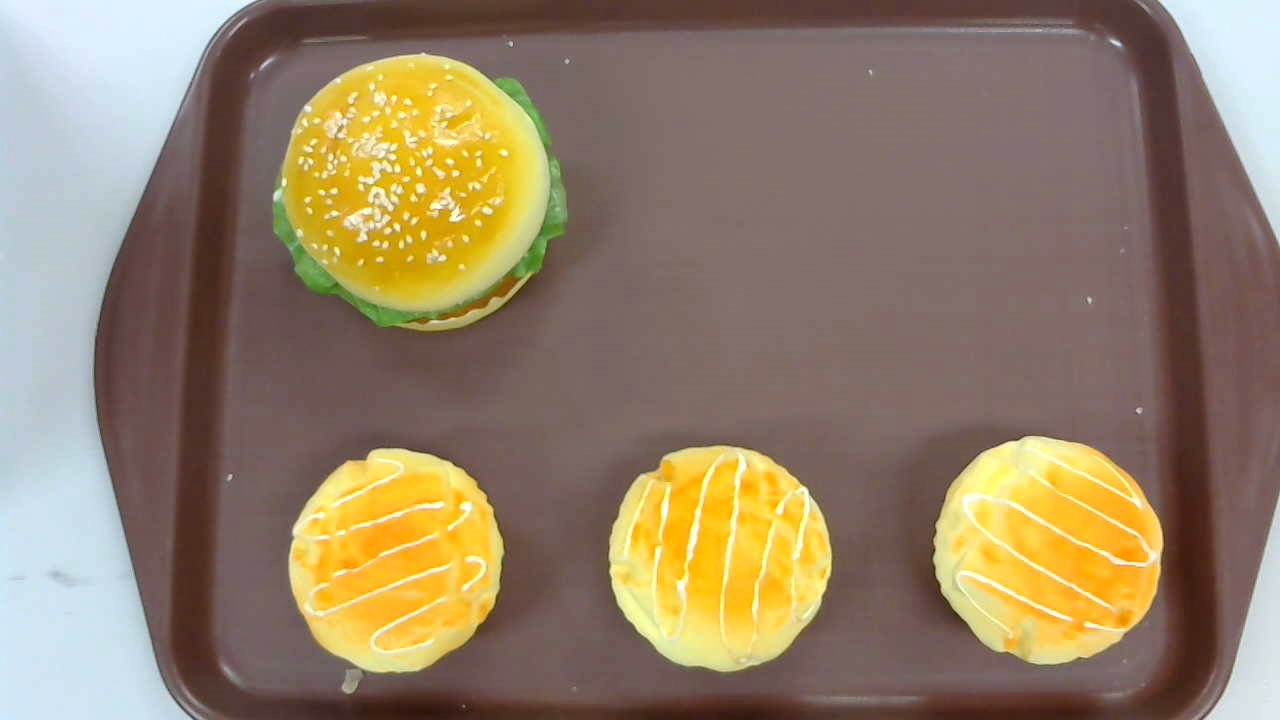cupcake: (931, 434, 1164, 665), (607, 444, 833, 672), (289, 447, 506, 675)
hamburger: (271, 52, 566, 334)
